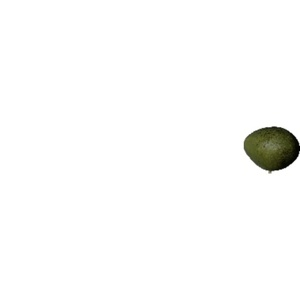abacate: (243, 116, 299, 175)
